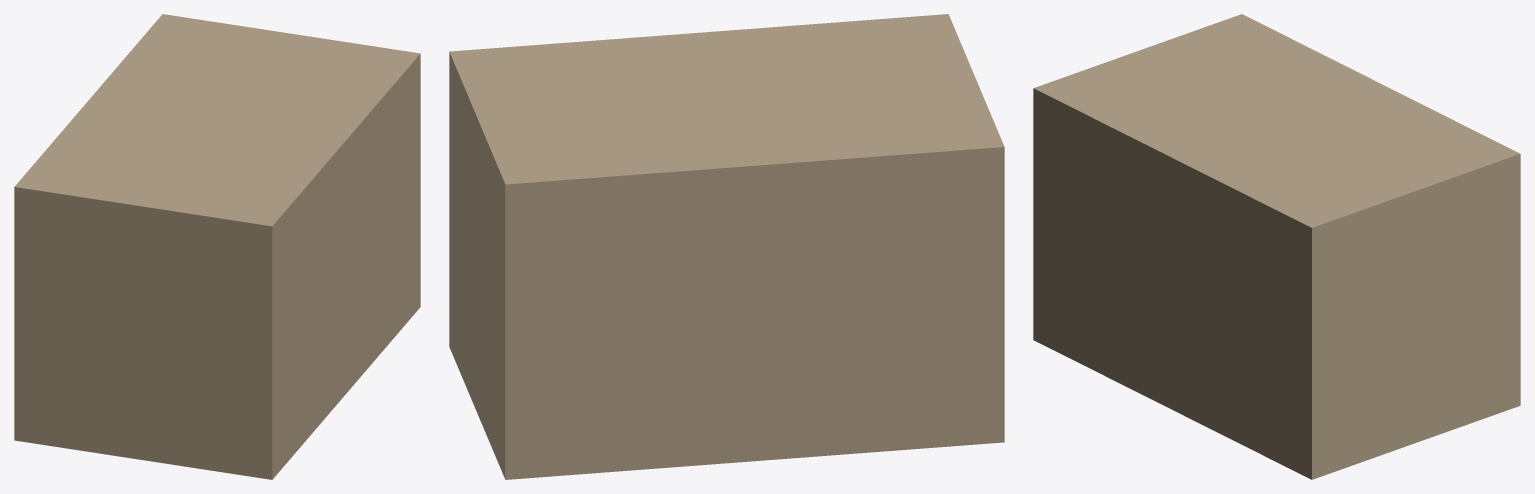
The model's file is bld_55879506.dae.
The picture shows the model from 3 angles, left to right: view 1: azimuth 30°, elevation 25°; view 2: azimuth 150°, elevation 25°; view 3: azimuth 270°, elevation 25°; orthographic projection. The views are drawn at different scales.
Visible parts, largest first — view 1: bld_55879506; view 2: bld_55879506; view 3: bld_55879506.
Part boxes in pixels (left/top/right/bottom): bld_55879506: left=14, top=14, right=420, bottom=479; bld_55879506: left=449, top=14, right=1004, bottom=479; bld_55879506: left=1033, top=14, right=1520, bottom=479.
Size of the model in its own units: 14.57 by 14.01 by 8.
